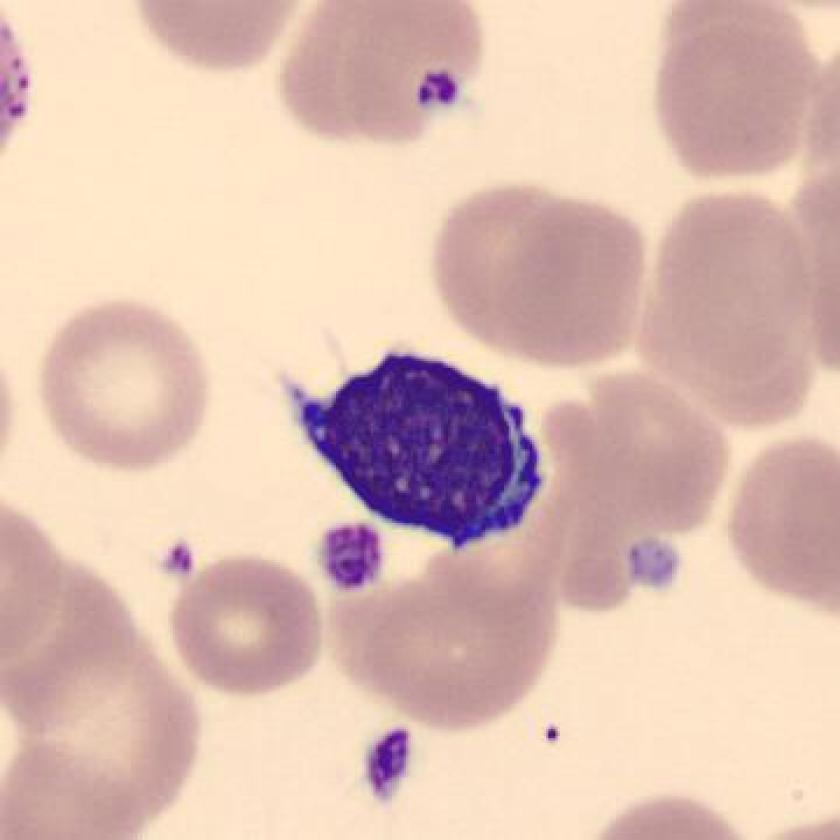lymphocyte: (281, 339, 552, 556)
platelets: (316, 516, 391, 603), (360, 726, 425, 802), (619, 527, 683, 592), (412, 67, 469, 120), (162, 543, 199, 583)
